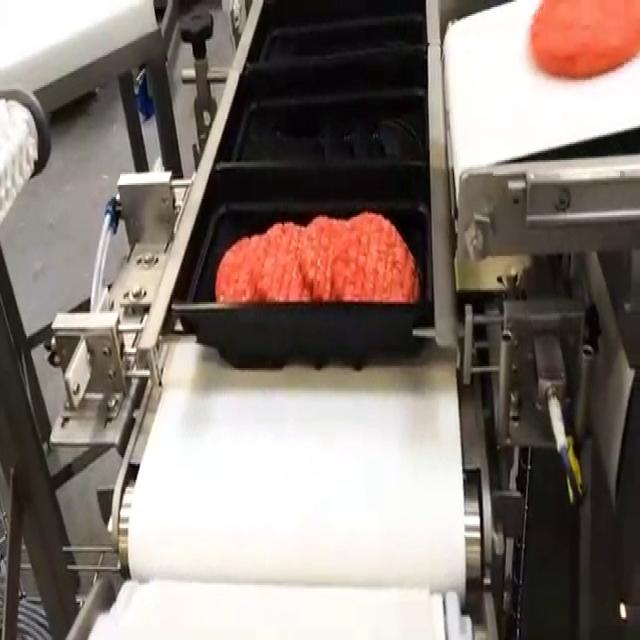4-hamburguer: (215, 212, 419, 302)
